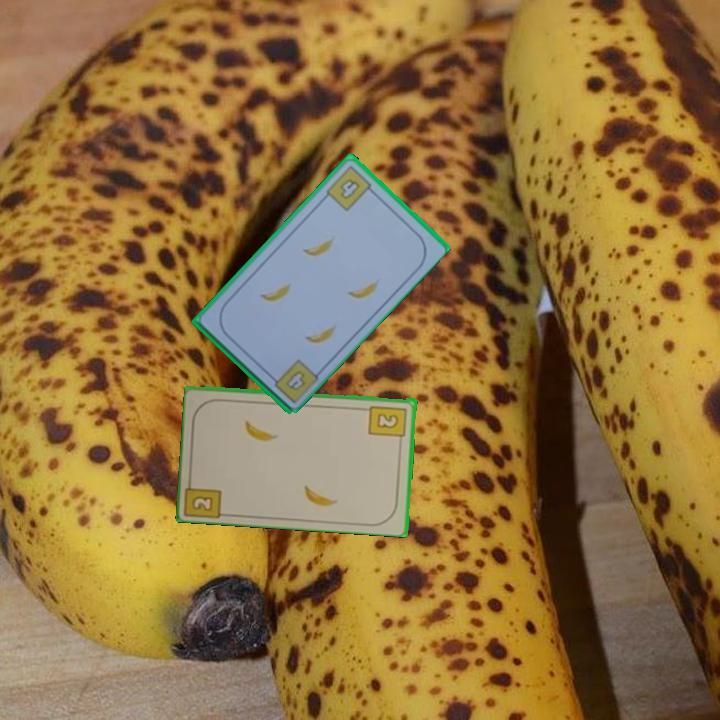2b: (183, 473, 225, 519), (366, 402, 409, 446)
4b: (322, 162, 378, 214), (282, 367, 308, 394)
